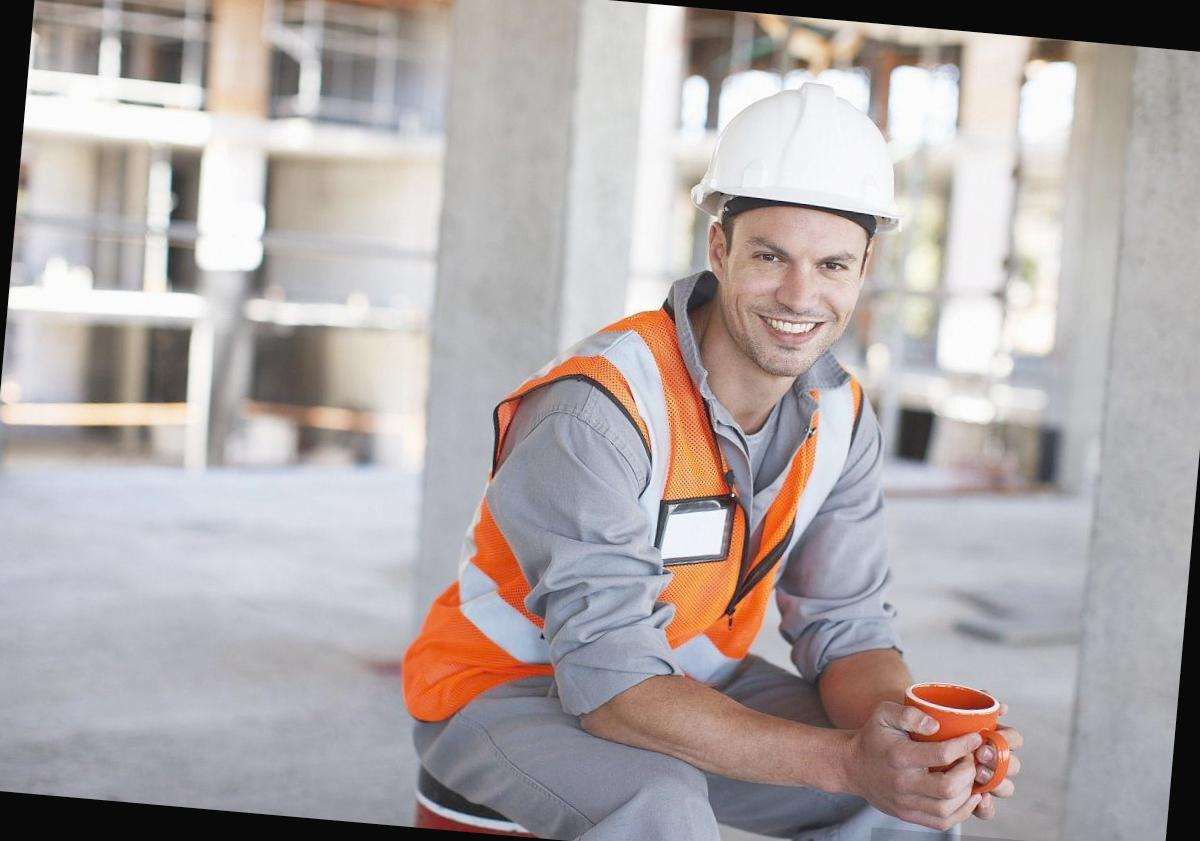helmet: (671, 67, 924, 247)
person: (390, 57, 1063, 841)
